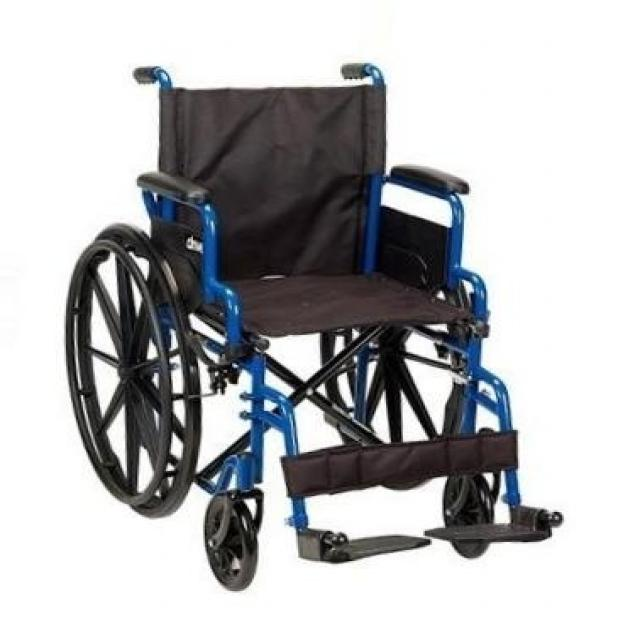wheelchair: (66, 46, 576, 596)
